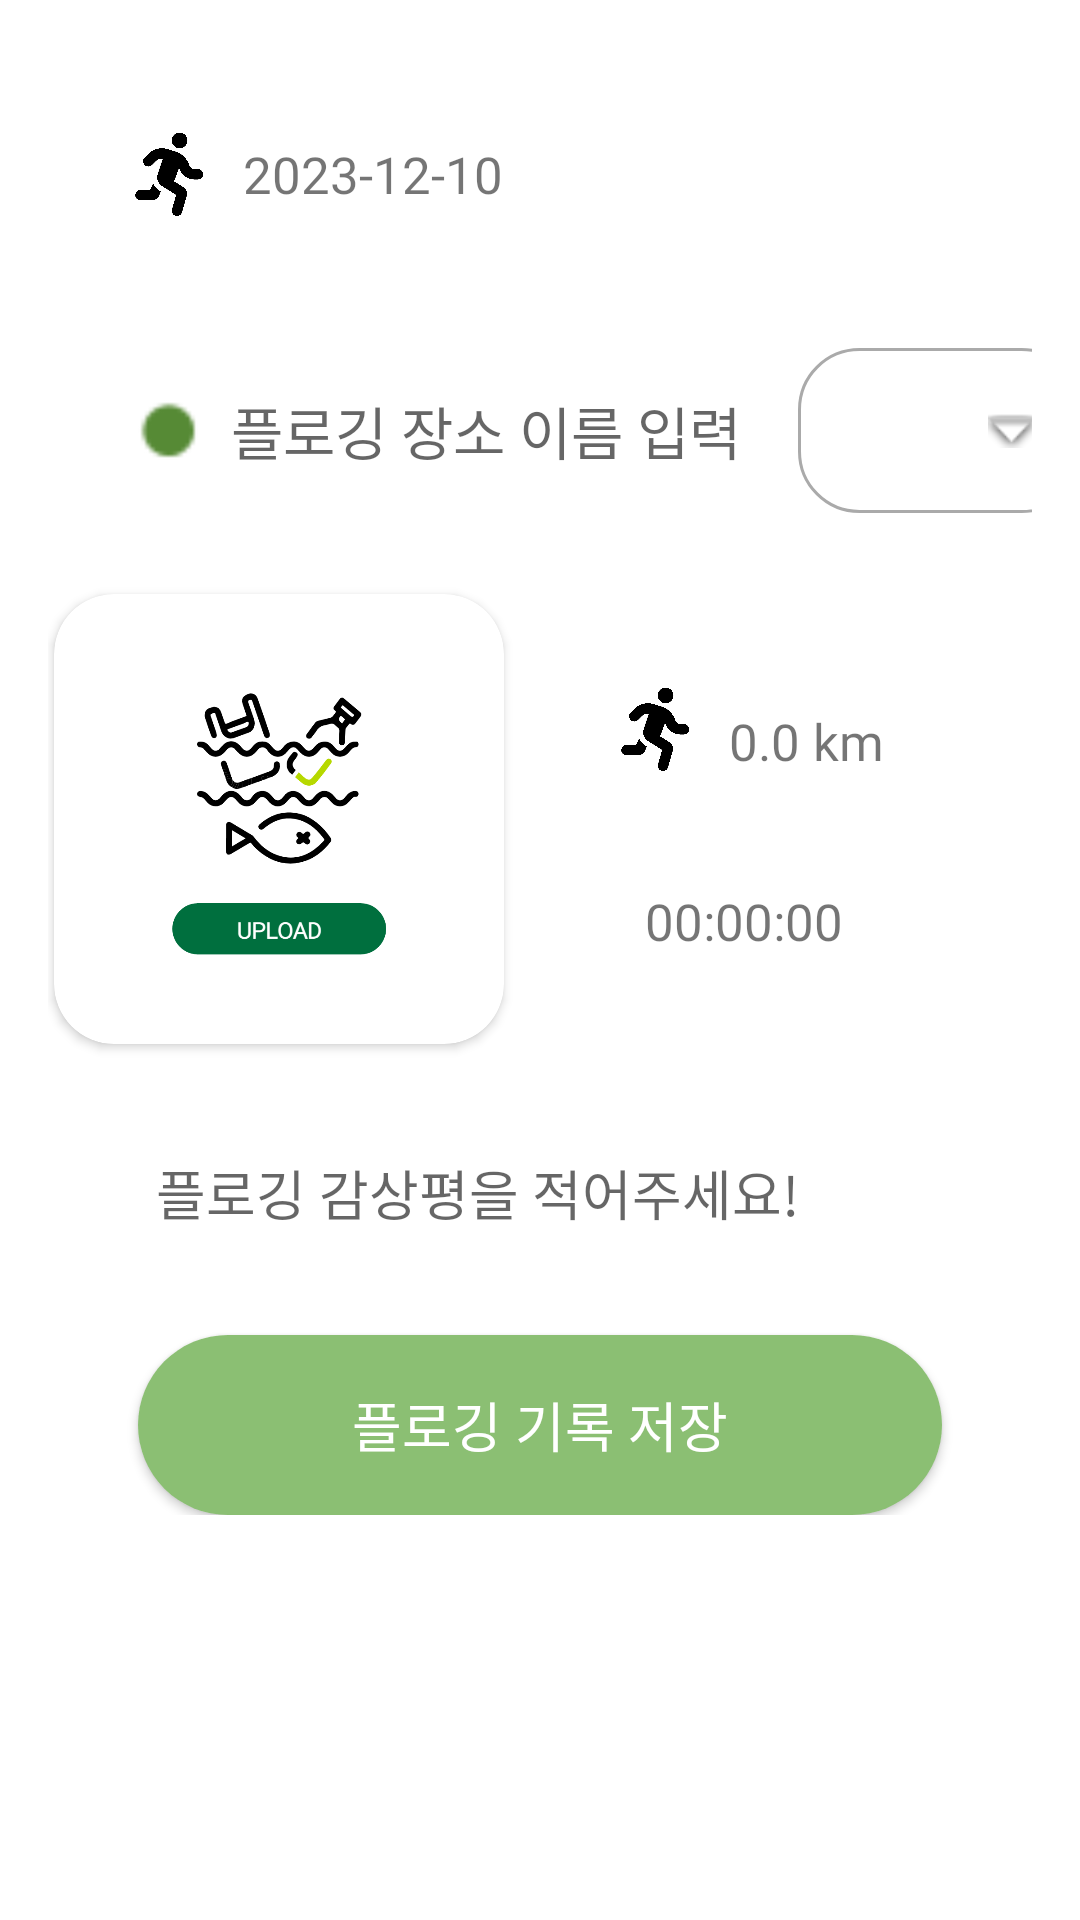

Icon bounding boxes for this 1080px×1920px phone screenshot, format (x1, y1, x2, y2):
person running: (135, 133, 203, 216), (621, 688, 689, 771)
